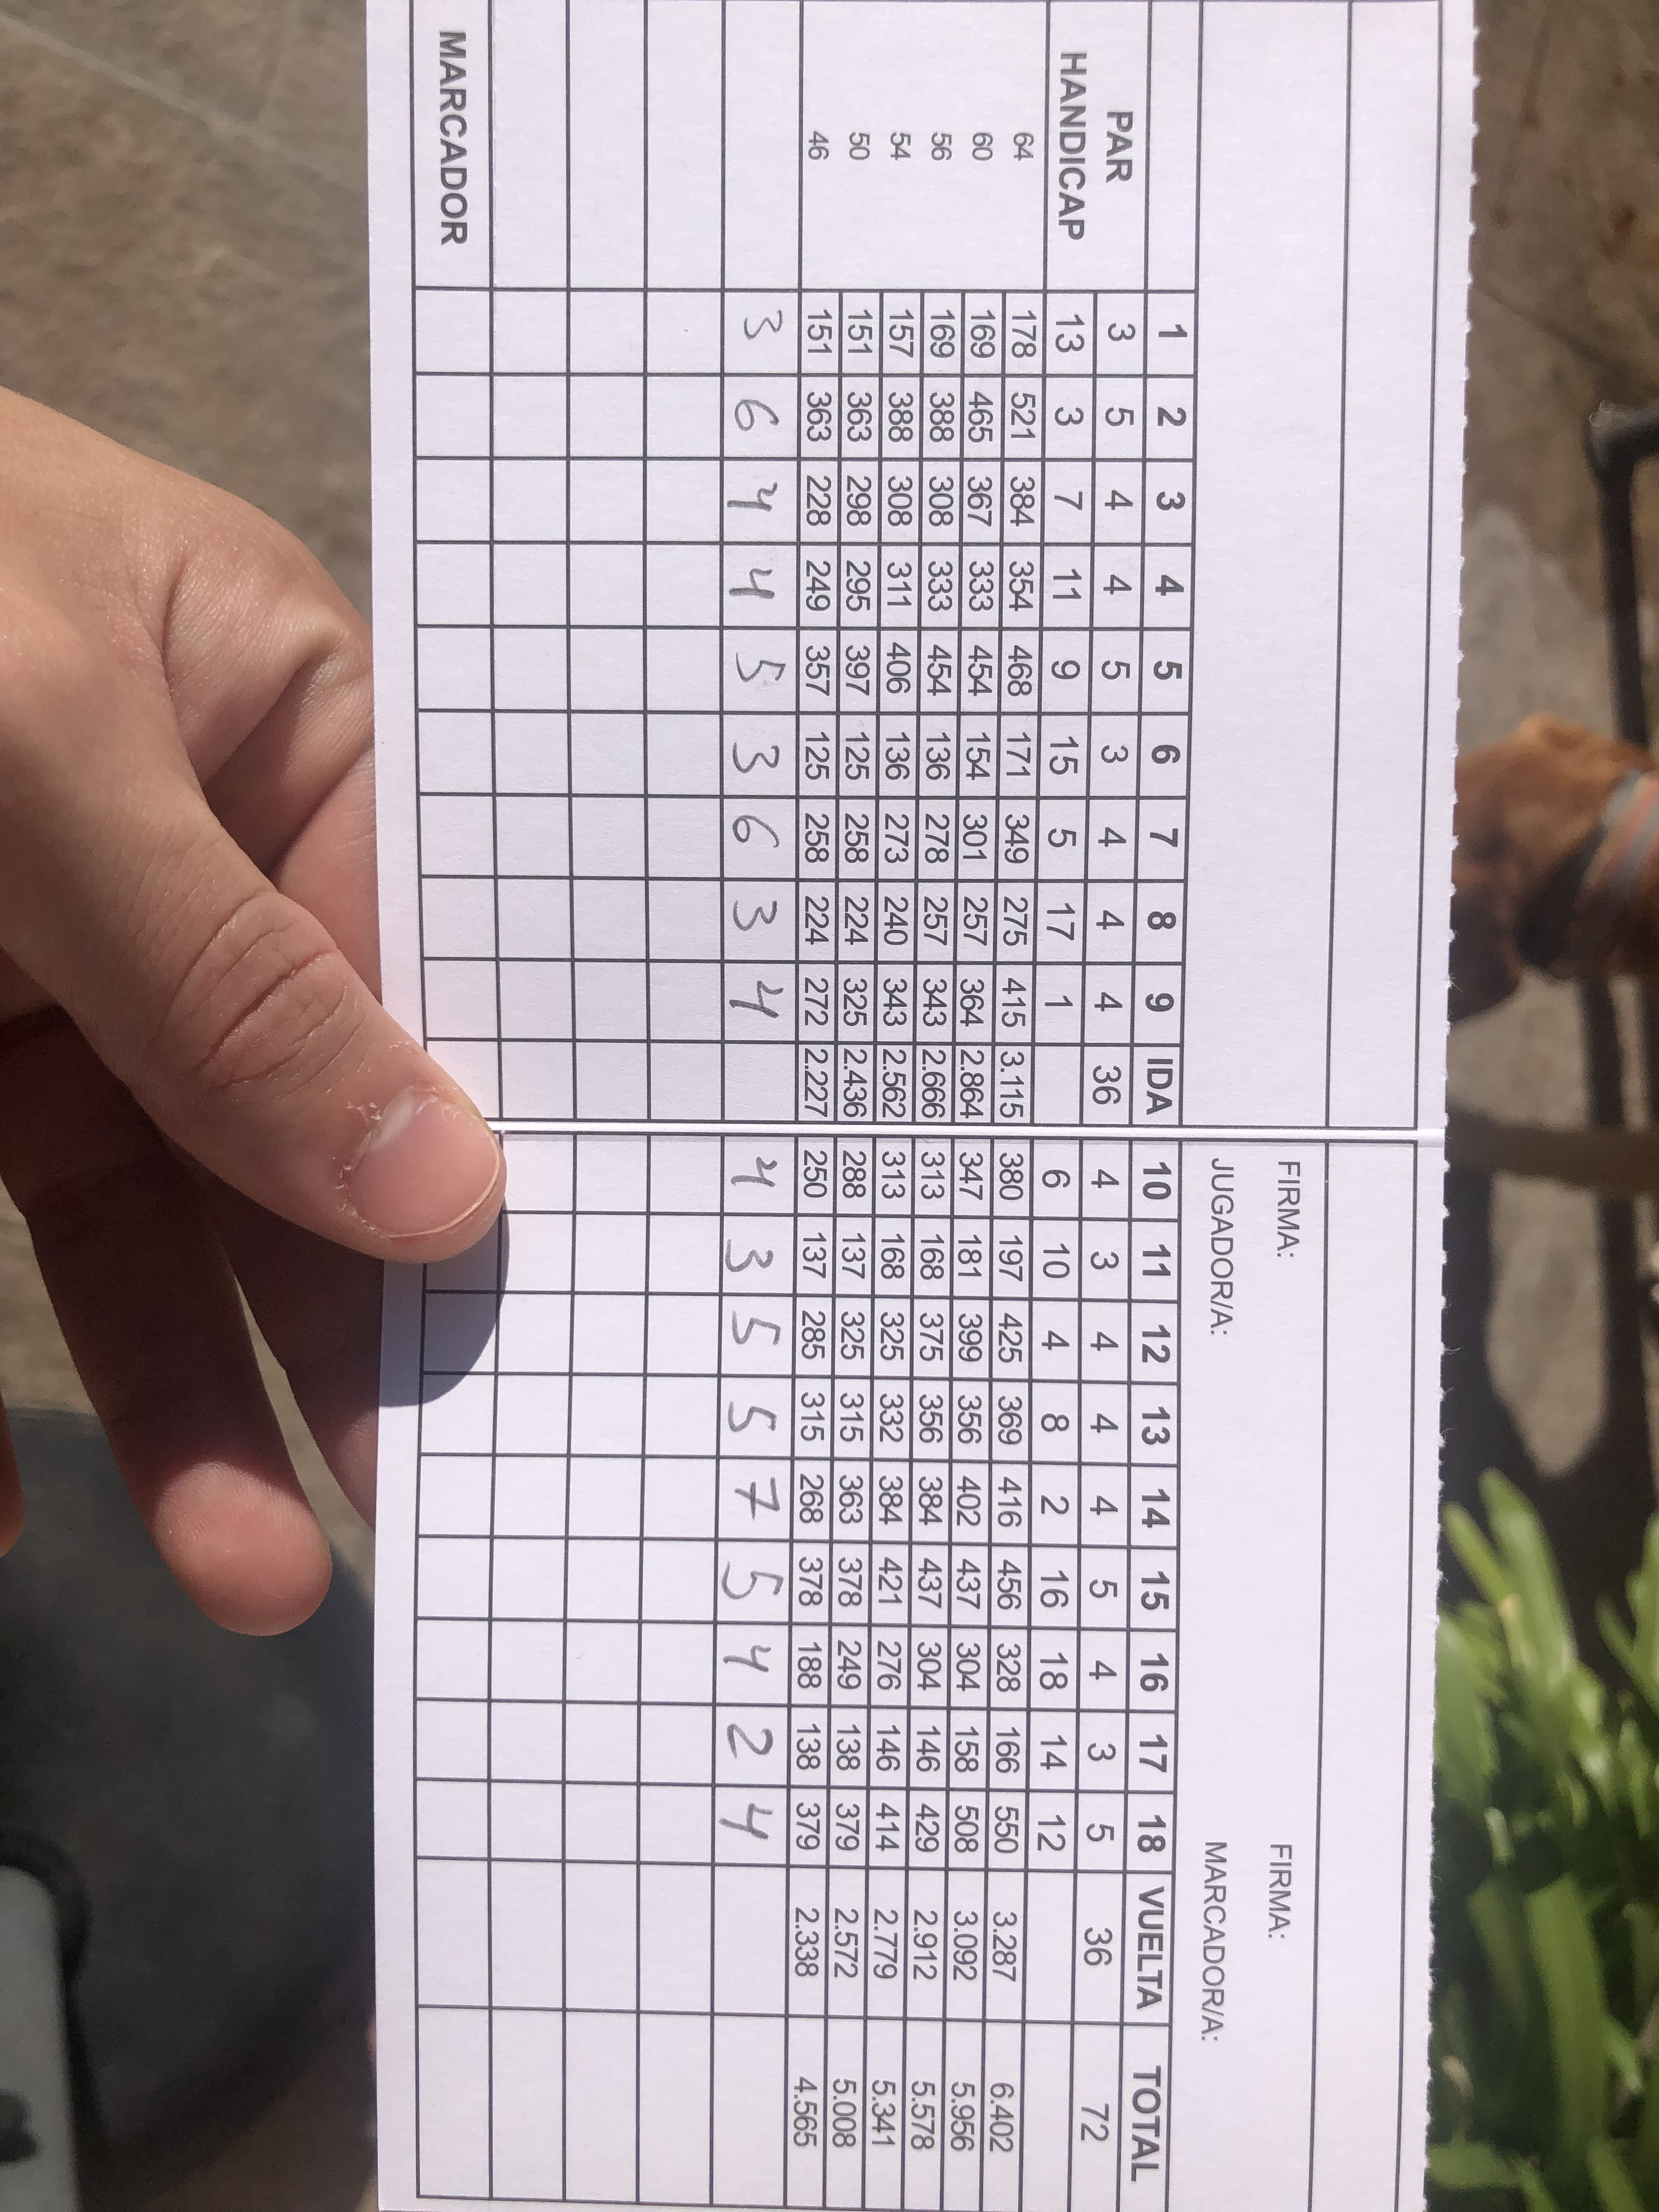par: (1082, 110, 1134, 2156)
score: (720, 293, 781, 1848)
